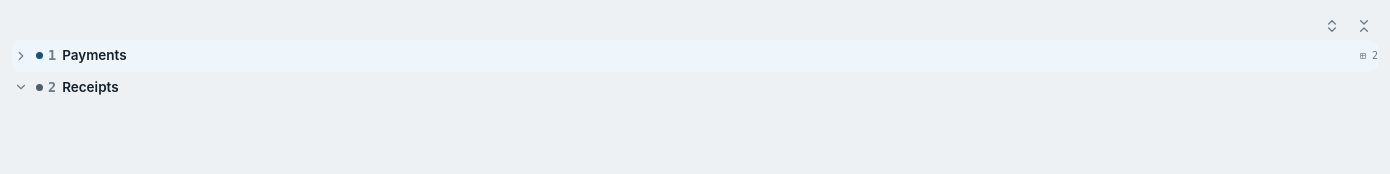
outline tree interaction › provides named icon-only expand/collapse-all controls
The width and height of the screenshot is (1390, 174).
Click the button named "Expand all sections".
click(1332, 26)  # box [1318,12,1346,40]
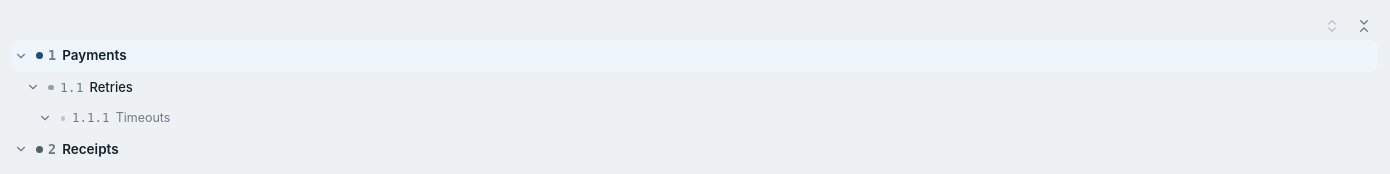
Result: the list item "1.1.1 Timeouts" is shown at [12,103,1378,134]
Click the button named "Collapse all sections".
click(1364, 26)  # box [1350,12,1378,40]
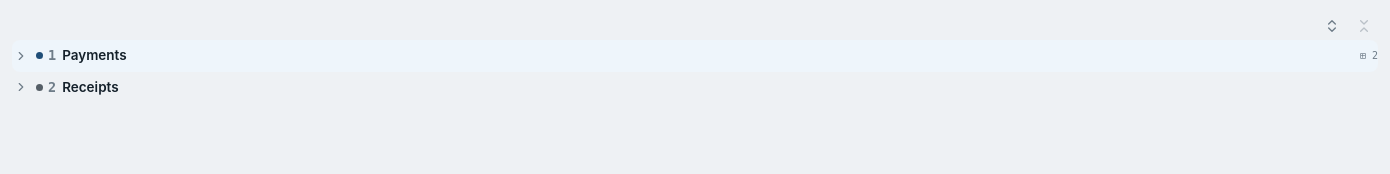
Result: the number of list items is 2 at [12,40,1378,72]; [12,72,1378,103]
